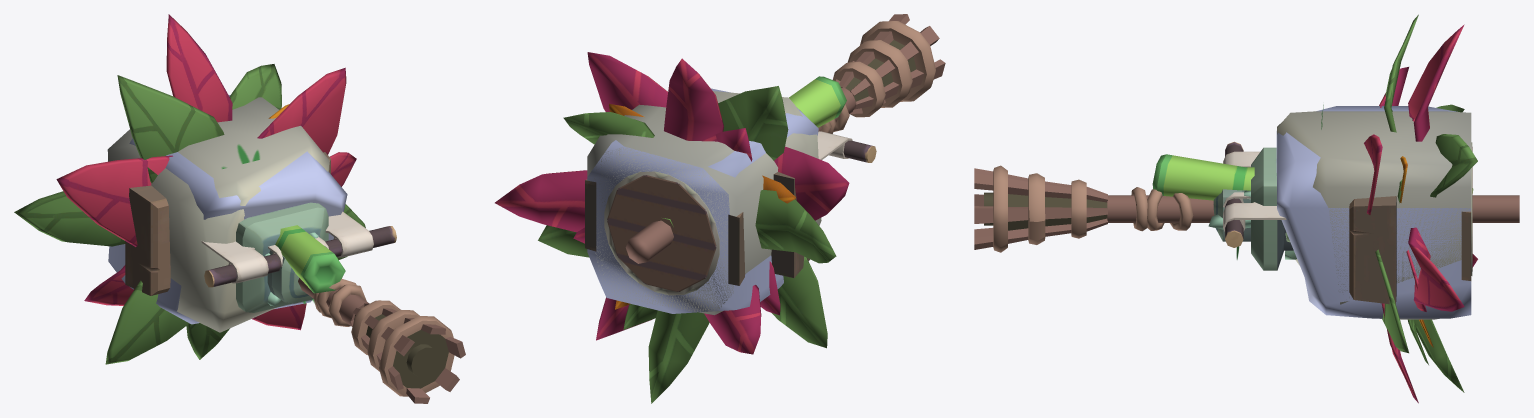
The model's file is Disguise.glb.
The picture shows the model from 3 angles, left to right: view 1: azimuth 30°, elevation 25°; view 2: azimuth 150°, elevation 25°; view 3: azimuth 270°, elevation 25°; orthographic projection.
Parts seen in each view (by area): view 1: RockJungle__3740, Shrub_Red_01__4492, Shrub_Green_02__3681, TikiTorch__3697, Rock__2793, StoneLantern__2509, Flag_Mast__3170, OnsenStool__2638, Bamboo__3314; view 2: Shrub_Red_01__4492, Shrub_Green_02__3681, Rock__2793, RockJungle__3740, TikiTorch__3697, OnsenBucketLarge__2870, OnsenStool__2638, TempleBlock_Pillar_01__4036, Bamboo__3314, Shrub_Red_02__3867, Flag_Mast__3170, Shrub_Orange_01__3917 (+1 smaller); view 3: RockJungle__3740, Rock__2793, TikiTorch__3697, OnsenStool__2638, Shrub_Red_01__4492, Shrub_Green_02__3681, StoneLantern__2509, Bamboo__3314, Flag_Mast__3170.
Part boxes in pixels (left/top/right/bottom): RockJungle__3740: left=107, top=97, right=329, bottom=332; Shrub_Red_01__4492: left=56, top=14, right=356, bottom=330; Shrub_Green_02__3681: left=14, top=64, right=365, bottom=364; TikiTorch__3697: left=298, top=278, right=465, bottom=403; Rock__2793: left=108, top=95, right=347, bottom=324; StoneLantern__2509: left=236, top=202, right=328, bottom=312; Flag_Mast__3170: left=201, top=211, right=396, bottom=287; OnsenStool__2638: left=125, top=152, right=330, bottom=295; Bamboo__3314: left=275, top=225, right=345, bottom=293; Shrub_Red_01__4492: left=495, top=52, right=849, bottom=354; Shrub_Green_02__3681: left=538, top=86, right=836, bottom=403; Rock__2793: left=587, top=88, right=818, bottom=313; RockJungle__3740: left=587, top=91, right=821, bottom=315; TikiTorch__3697: left=625, top=14, right=945, bottom=263; OnsenBucketLarge__2870: left=607, top=175, right=716, bottom=291; OnsenStool__2638: left=585, top=172, right=809, bottom=285; TempleBlock_Pillar_01__4036: left=604, top=171, right=719, bottom=295; Bamboo__3314: left=662, top=76, right=846, bottom=226; Shrub_Red_02__3867: left=573, top=128, right=780, bottom=315; Flag_Mast__3170: left=817, top=131, right=876, bottom=162; Shrub_Orange_01__3917: left=609, top=103, right=795, bottom=309; RockJungle__3740: left=1277, top=111, right=1471, bottom=319; Rock__2793: left=1276, top=106, right=1471, bottom=318; TikiTorch__3697: left=974, top=165, right=1519, bottom=252; OnsenStool__2638: left=1349, top=196, right=1471, bottom=304; Shrub_Red_01__4492: left=1364, top=24, right=1477, bottom=403; Shrub_Green_02__3681: left=1375, top=14, right=1477, bottom=392; StoneLantern__2509: left=1213, top=147, right=1293, bottom=270; Bamboo__3314: left=1152, top=154, right=1473, bottom=200; Flag_Mast__3170: left=1223, top=141, right=1286, bottom=247.
Size of the model in its own units: 5.48 by 5.4 by 7.54.
Materials: 16 (14 with a texture image).
